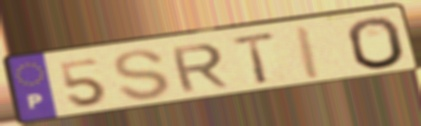5: (56, 56, 109, 109)
I: (292, 23, 325, 82)
O: (344, 15, 408, 72)
R: (168, 41, 233, 95)
S: (111, 48, 173, 103)
T: (229, 30, 279, 87)
